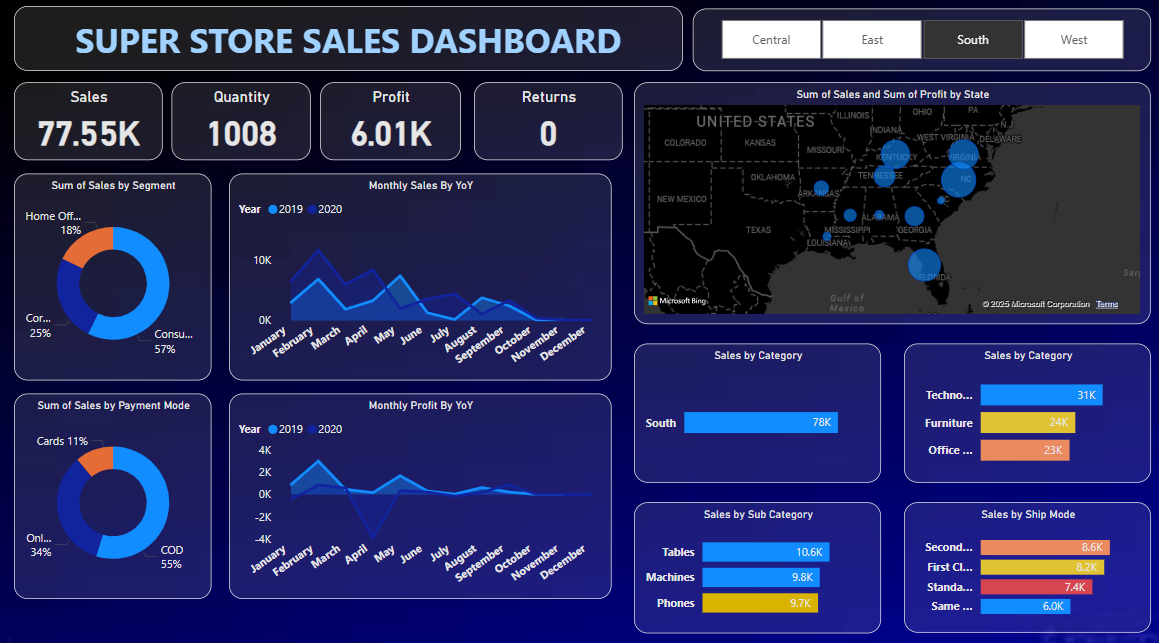

The dashboard page shown, as its layout file describes it:
{"tool":"powerbi","page":{"name":"Page 1","canvas":[1280,720],"ordinal":0},"visuals":[{"type":"clusteredBarChart","title":"Sales by Category","fields":{"Category":["SuperStore_Sales_Dataset.Category"],"Y":["Sum(SuperStore_Sales_Dataset.Sales)"]},"box":[992.9,381.4,271.4,152.9],"z":0},{"type":"clusteredBarChart","title":"Sales by Sub Category","fields":{"Category":["SuperStore_Sales_Dataset.Sub-Category"],"Y":["Sum(SuperStore_Sales_Dataset.Sales)"]},"box":[697.1,555.7,271.4,144.3],"z":1000},{"type":"clusteredBarChart","title":"Sales by Ship Mode","fields":{"Y":["Sum(SuperStore_Sales_Dataset.Sales)"],"Category":["SuperStore_Sales_Dataset.Ship Mode"]},"box":[992.9,555.7,271.4,142.9],"z":2000},{"type":"areaChart","title":"Monthly Sales By YoY","fields":{"Y":["Sum(SuperStore_Sales_Dataset.Sales)"],"Series":["SuperStore_Sales_Dataset.Order Date.Variation.Date Hierarchy.Year"],"Category":["SuperStore_Sales_Dataset.Order Date.Variation.Date Hierarchy.Month","SuperStore_Sales_Dataset.Order Date.Variation.Date Hierarchy.Day"]},"box":[252.9,194.3,420,227.1],"z":3000},{"type":"areaChart","title":"Monthly Profit By YoY","fields":{"Series":["SuperStore_Sales_Dataset.Order Date.Variation.Date Hierarchy.Year"],"Category":["SuperStore_Sales_Dataset.Order Date.Variation.Date Hierarchy.Month","SuperStore_Sales_Dataset.Order Date.Variation.Date Hierarchy.Day"],"Y":["Sum(SuperStore_Sales_Dataset.Profit)"]},"box":[252.9,435.7,420,225.7],"z":4000},{"type":"map","fields":{"Category":["SuperStore_Sales_Dataset.State"],"Size":["Sum(SuperStore_Sales_Dataset.Sales)"]},"box":[697.1,94.3,567.1,265.7],"z":5000},{"type":"donutChart","fields":{"Category":["SuperStore_Sales_Dataset.Segment"],"Y":["Sum(SuperStore_Sales_Dataset.Sales)"]},"box":[17.1,194.3,217.1,227.1],"z":6000},{"type":"donutChart","fields":{"Y":["Sum(SuperStore_Sales_Dataset.Sales)"],"Category":["SuperStore_Sales_Dataset.Payment Mode"]},"box":[17.1,435.7,217.1,225.7],"z":7000},{"type":"slicer","fields":{"Values":["SuperStore_Sales_Dataset.Region"]},"box":[761.4,14.3,502.9,68.6],"z":8000},{"type":"textbox","box":[17.1,11.4,734.3,71.4],"z":9000},{"type":"card","title":"Sales","fields":{"Values":["Sum(SuperStore_Sales_Dataset.Sales)"]},"box":[17.1,94.3,162.9,85.7],"z":9001},{"type":"card","title":"Quantity","fields":{"Values":["Sum(SuperStore_Sales_Dataset.Quantity)"]},"box":[190,94.3,152.9,85.7],"z":9002},{"type":"card","title":"Profit","fields":{"Values":["Sum(SuperStore_Sales_Dataset.Profit)"]},"box":[352.9,94.3,154.3,85.7],"z":9003},{"type":"clusteredBarChart","title":"Sales by Category","fields":{"Y":["Sum(SuperStore_Sales_Dataset.Sales)"],"Category":["SuperStore_Sales_Dataset.Region"]},"box":[697.1,381.4,271.4,152.9],"z":9004},{"type":"card","title":"Returns","fields":{"Values":["Sum(SuperStore_Sales_Dataset.Returns)"]},"box":[521.4,94.3,162.9,85.7],"z":9005}]}

Visuals, with their boxes in screenshot pixels (x1, y1, x2, y2), scaled from the page's 1280x720 canvas onto the 1159x643 screenshot:
"Sales by Category" clusteredBarChart: 899/341/1145/477
"Sales by Sub Category" clusteredBarChart: 631/496/877/625
"Sales by Ship Mode" clusteredBarChart: 899/496/1145/624
"Monthly Sales By YoY" areaChart: 229/174/609/376
"Monthly Profit By YoY" areaChart: 229/389/609/591
map - SuperStore_Sales_Dataset.State x Sum(SuperStore_Sales_Dataset.Sales): 631/84/1145/322
donutChart - SuperStore_Sales_Dataset.Segment x Sum(SuperStore_Sales_Dataset.Sales): 15/174/212/376
donutChart - Sum(SuperStore_Sales_Dataset.Sales) x SuperStore_Sales_Dataset.Payment Mode: 15/389/212/591
slicer - SuperStore_Sales_Dataset.Region: 689/13/1145/74
textbox: 15/10/680/74
"Sales" card: 15/84/163/161
"Quantity" card: 172/84/310/161
"Profit" card: 320/84/459/161
"Sales by Category" clusteredBarChart: 631/341/877/477
"Returns" card: 472/84/620/161
